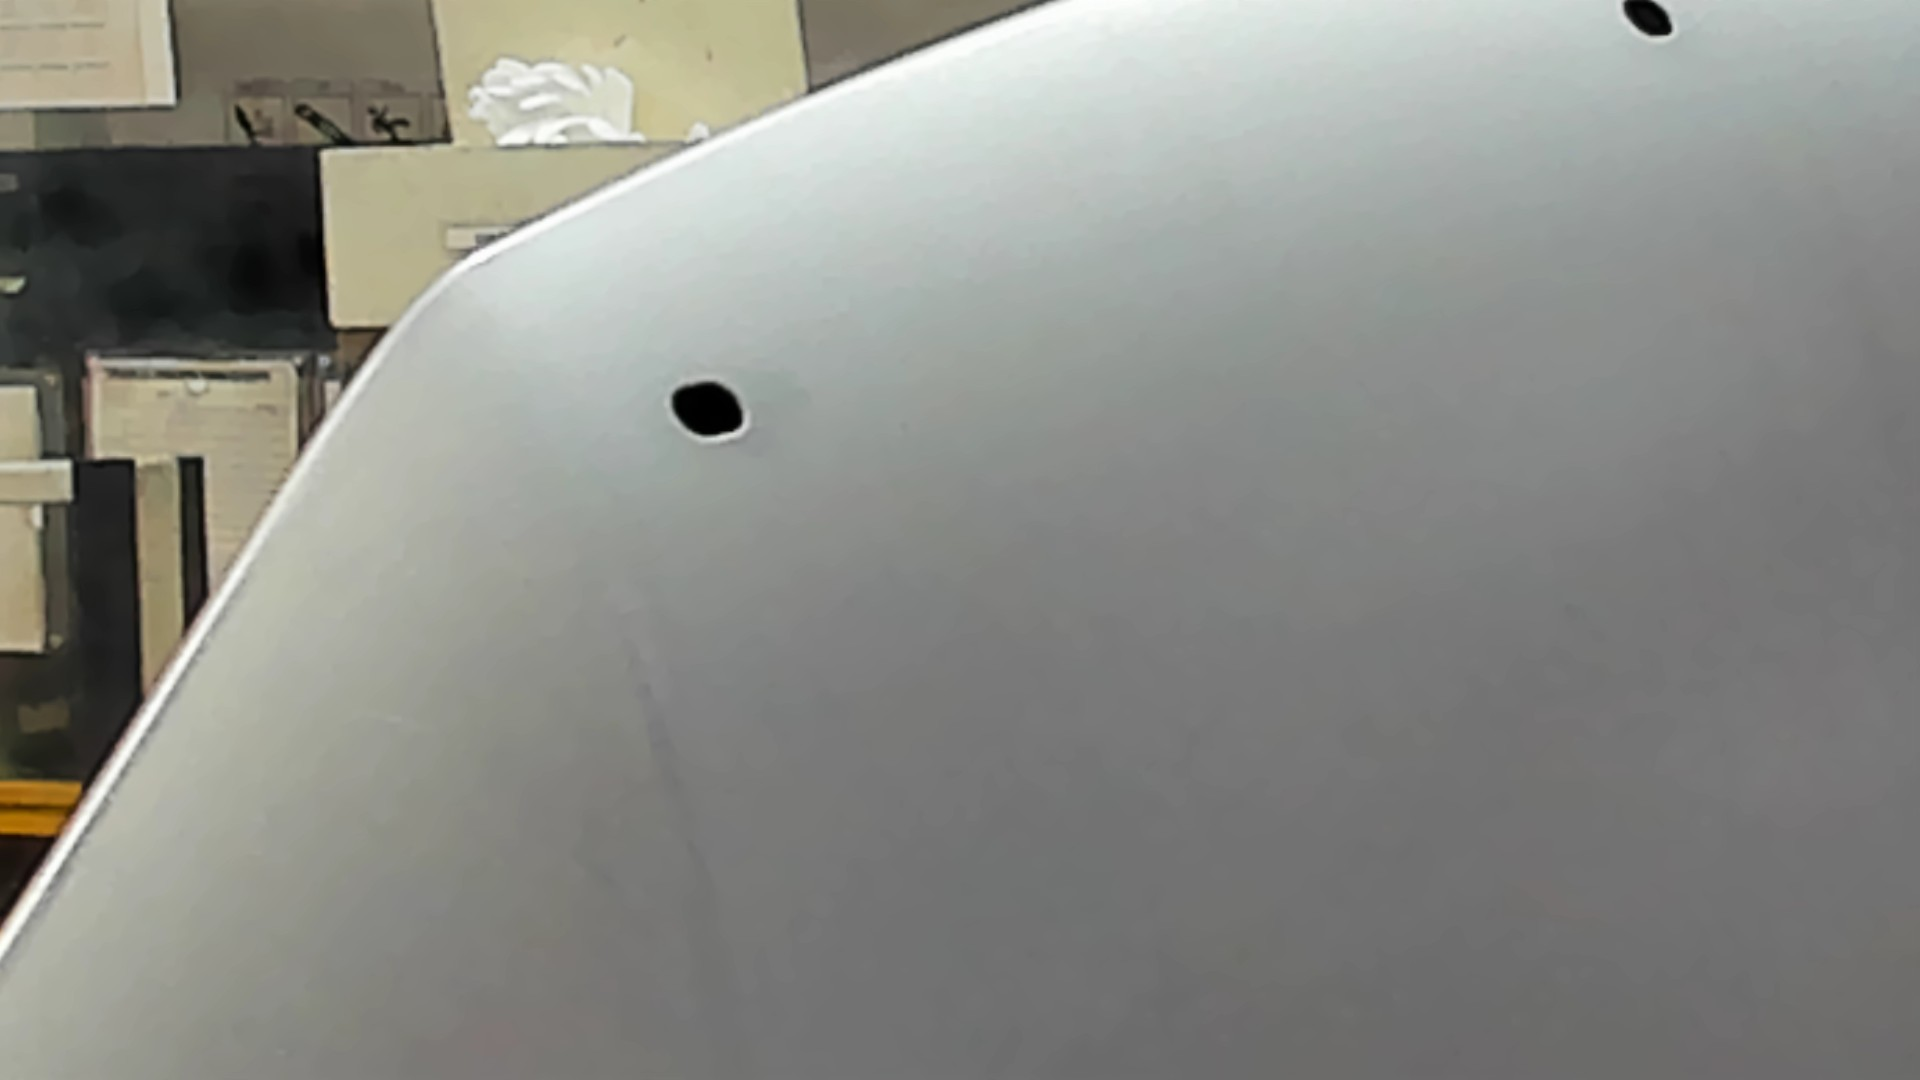Agujero: (665, 375, 754, 444), (1611, 1, 1677, 46)
